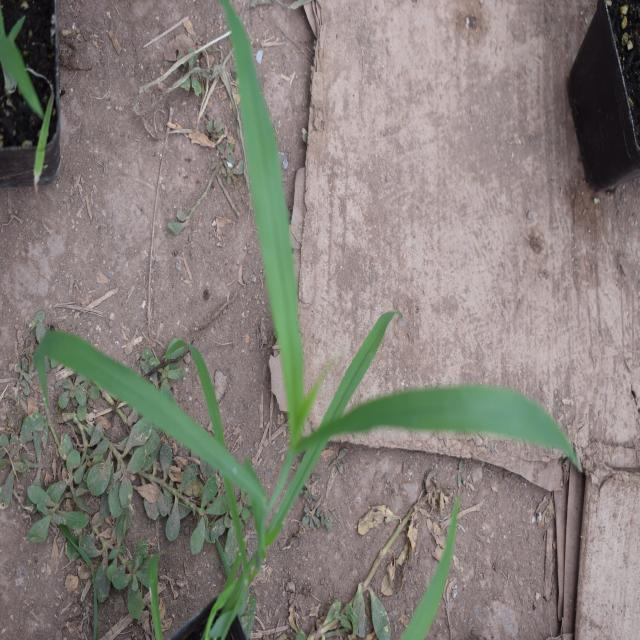crabgrass: (67, 93, 516, 571)
